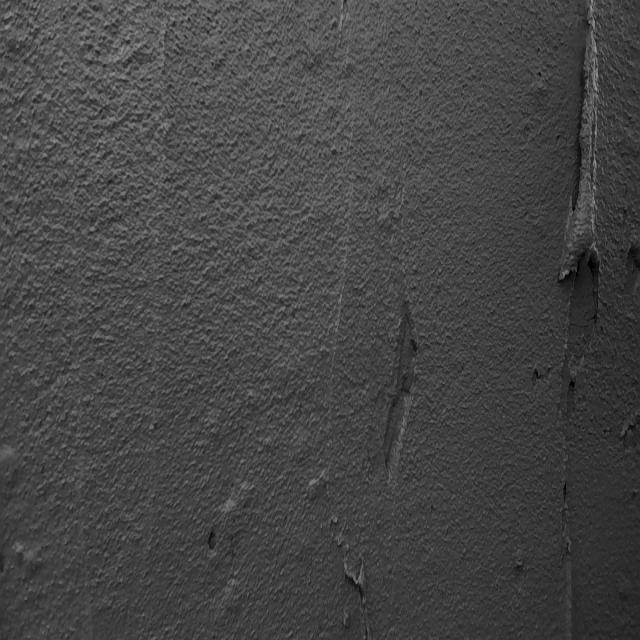trowels marks: (554, 12, 616, 628)
